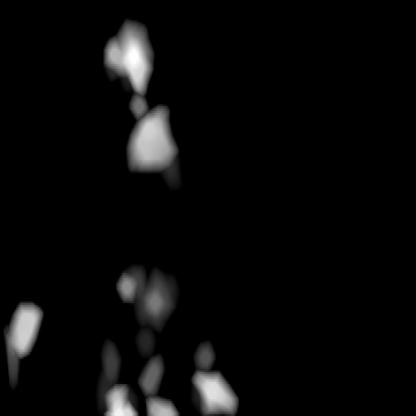fingers: (106, 15, 148, 103)
palm: (6, 290, 234, 414)
